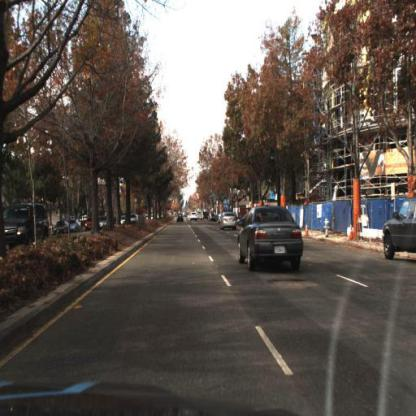car: (236, 204, 307, 277), (1, 203, 52, 248), (383, 199, 416, 262), (220, 210, 239, 234), (84, 216, 97, 234), (188, 210, 200, 227), (176, 210, 186, 228)
